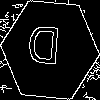D: (25, 25, 62, 74)
